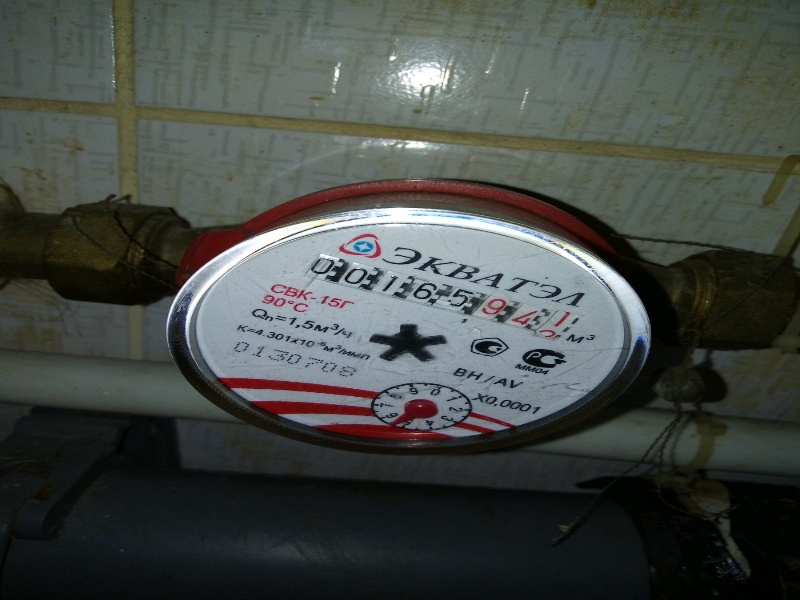meter: (304, 257, 579, 332)
